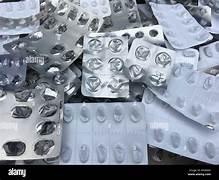pill_Strip: (5, 0, 102, 72), (142, 89, 218, 163), (60, 103, 146, 164), (0, 79, 63, 159), (151, 64, 218, 130), (125, 38, 198, 85), (81, 35, 128, 97), (150, 3, 212, 48), (125, 38, 174, 85), (27, 65, 80, 101), (0, 0, 53, 34), (83, 34, 127, 74), (25, 65, 79, 95), (68, 82, 144, 102), (89, 25, 164, 44), (39, 66, 80, 100), (101, 0, 141, 31), (81, 72, 128, 97), (109, 132, 145, 164), (148, 146, 205, 164), (165, 41, 199, 69), (0, 54, 26, 89), (39, 68, 76, 91), (0, 0, 39, 18), (0, 16, 39, 34), (198, 0, 218, 33), (64, 64, 81, 101), (72, 132, 92, 163), (198, 41, 218, 69), (32, 0, 56, 23), (185, 5, 210, 26), (80, 0, 110, 17), (176, 48, 199, 69), (137, 2, 157, 26), (64, 77, 81, 101), (0, 35, 18, 54), (14, 157, 58, 164), (128, 82, 144, 101), (207, 9, 218, 33), (145, 0, 197, 5), (69, 63, 81, 77), (198, 0, 218, 8), (204, 66, 218, 75), (176, 0, 198, 5), (145, 0, 171, 3), (0, 160, 14, 164), (51, 0, 59, 6), (0, 0, 21, 2), (198, 0, 206, 5), (69, 0, 79, 4)
